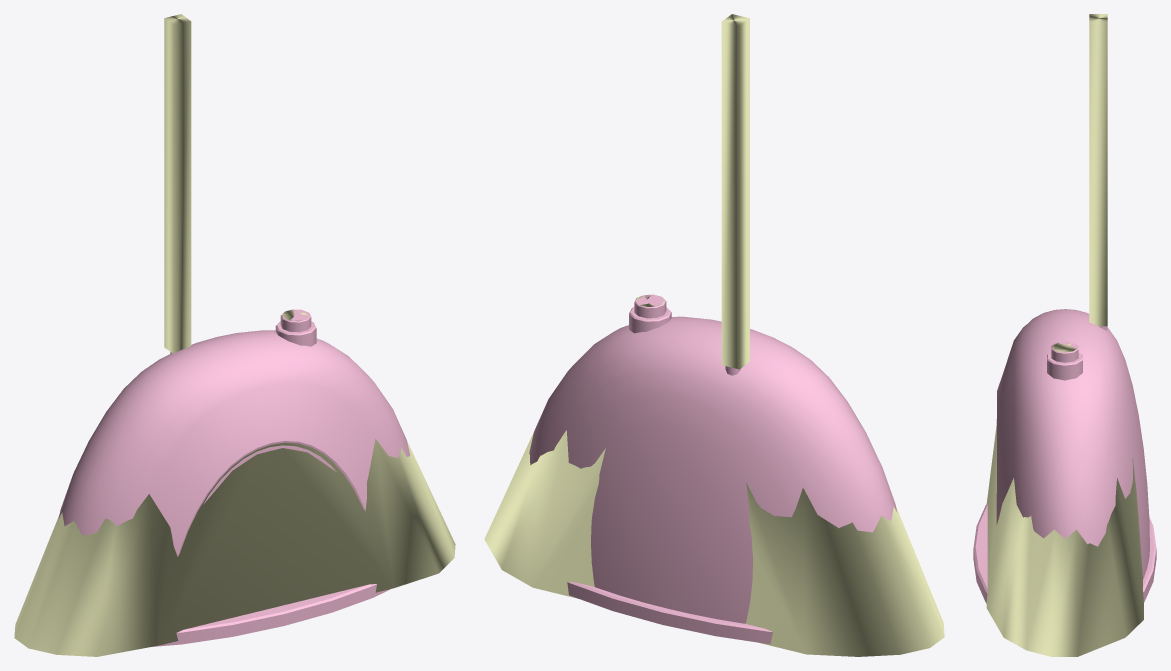
Rendered from radioFBX4.fbx.
3 views of the same model, side by side, from view 1: azimuth 30°, elevation 25°; view 2: azimuth 150°, elevation 25°; view 3: azimuth 270°, elevation 25° (orthographic). The views are drawn at different scales.
Parts seen in each view (by area): view 1: radio_reference_physics, radio_reference; view 2: radio_reference, radio_reference_physics; view 3: radio_reference, radio_reference_physics.
Boxes of the visible parts, <box> form: radio_reference_physics: <box>14,14,455,656</box>; radio_reference: <box>58,309,410,646</box>; radio_reference: <box>529,294,897,644</box>; radio_reference_physics: <box>484,14,944,656</box>; radio_reference: <box>973,309,1156,603</box>; radio_reference_physics: <box>986,14,1143,656</box>.
Bounding box in the file's own units: 2442 × 3101 × 980.
